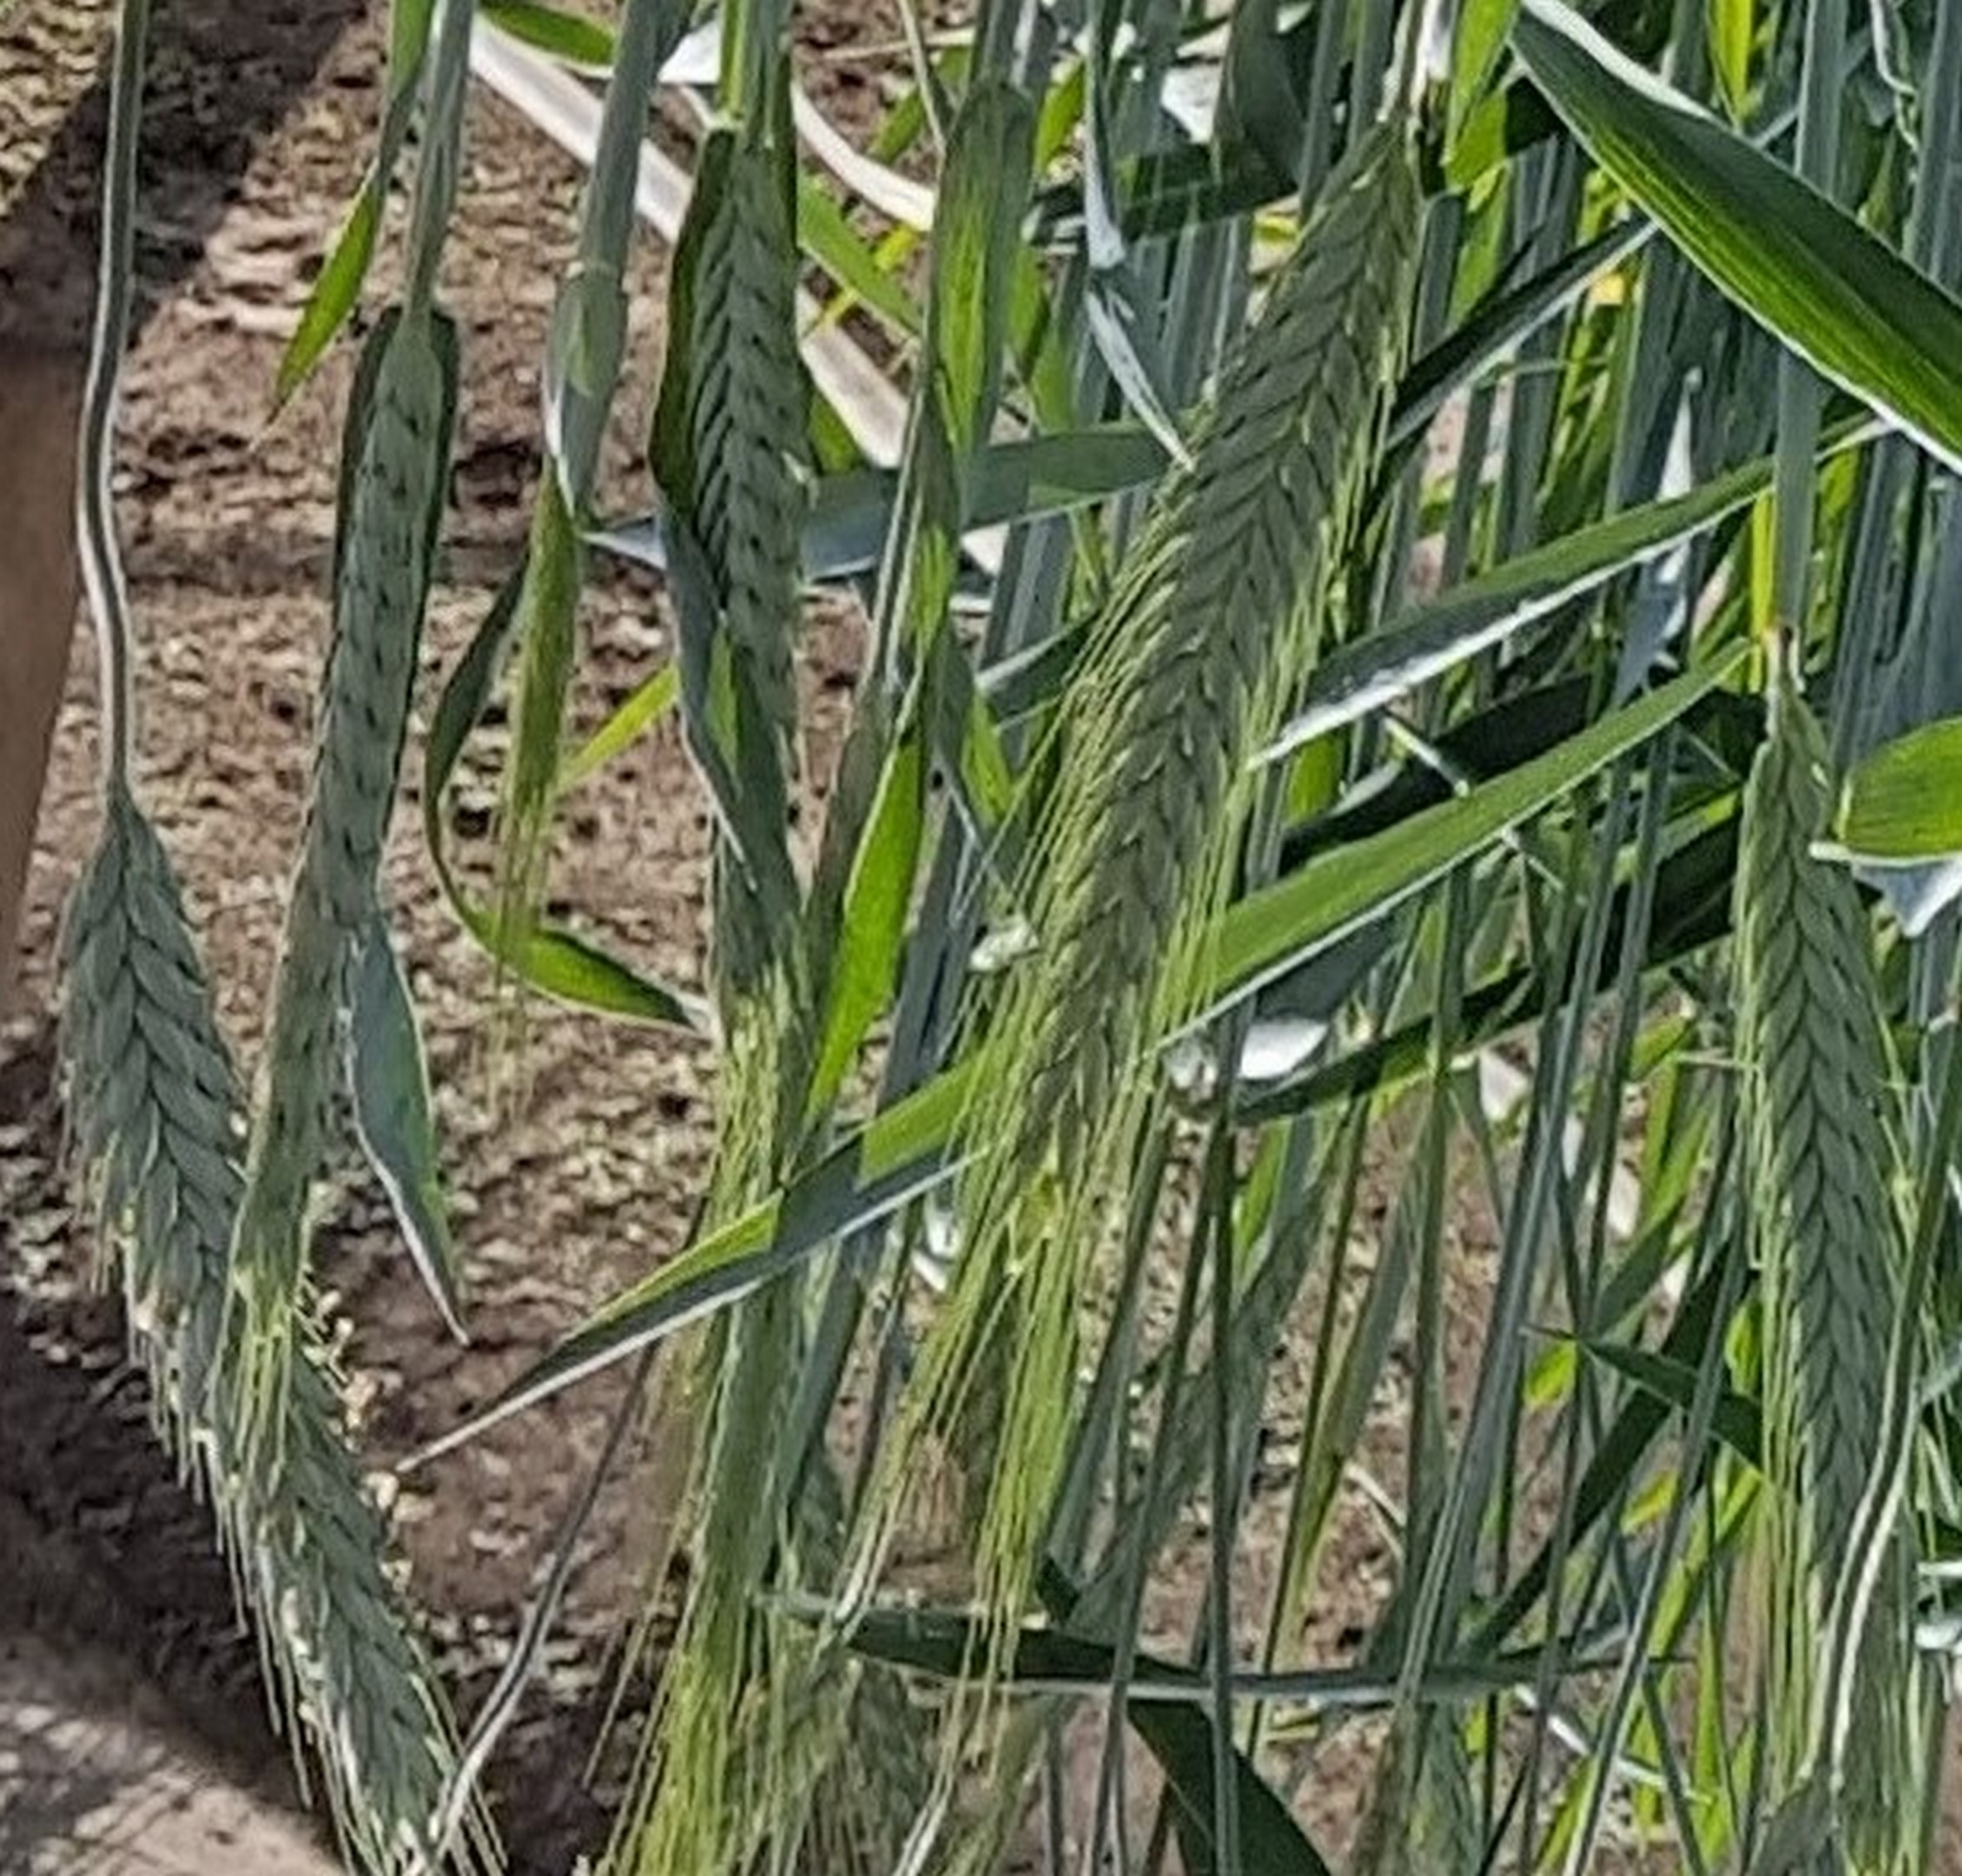Healthy Wheat: (981, 140, 1447, 1231)
